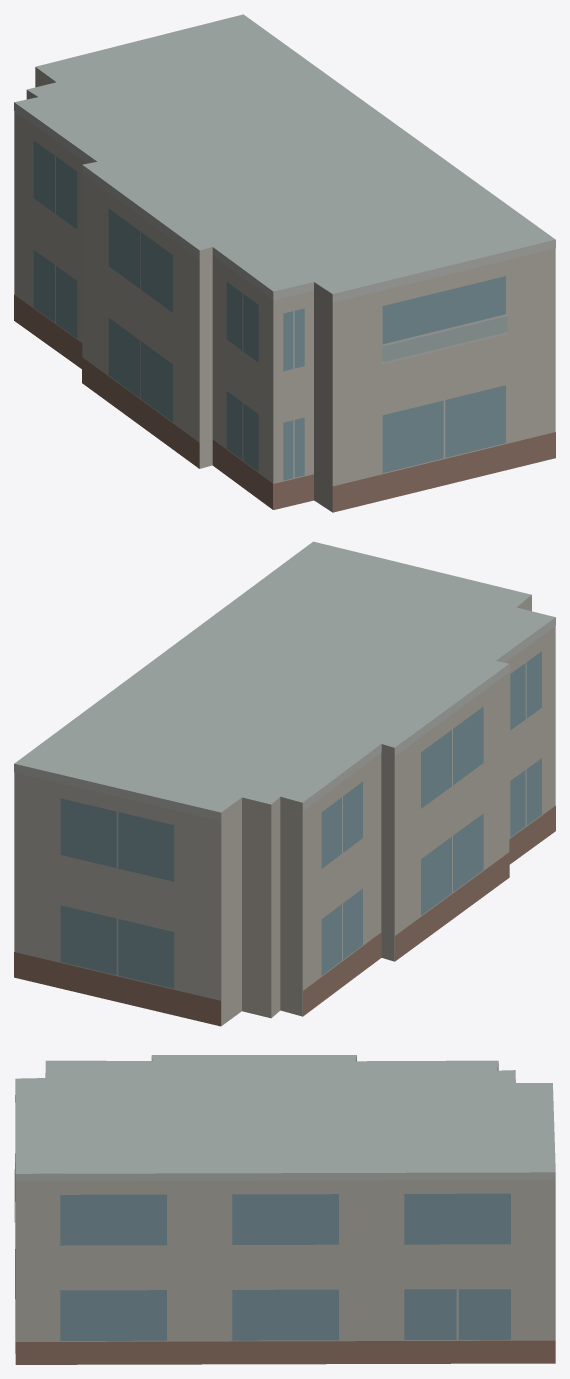
Rendered from survey-upis-32815224.glb.
The picture shows the model from 3 angles, top to bottom: view 1: azimuth 30°, elevation 25°; view 2: azimuth 150°, elevation 25°; view 3: azimuth 270°, elevation 25°; orthographic projection. The views are drawn at different scales.
Visible parts, largest first — view 1: survey-upis-32815224.tmp; view 2: survey-upis-32815224.tmp; view 3: survey-upis-32815224.tmp.
Part boxes in pixels (box(x1,y1,x2,y2)): survey-upis-32815224.tmp: box(14, 14, 555, 512); survey-upis-32815224.tmp: box(14, 541, 555, 1026); survey-upis-32815224.tmp: box(14, 1055, 555, 1364).
Size of the model in its own units: 8.15 by 6.1 by 15.69.
